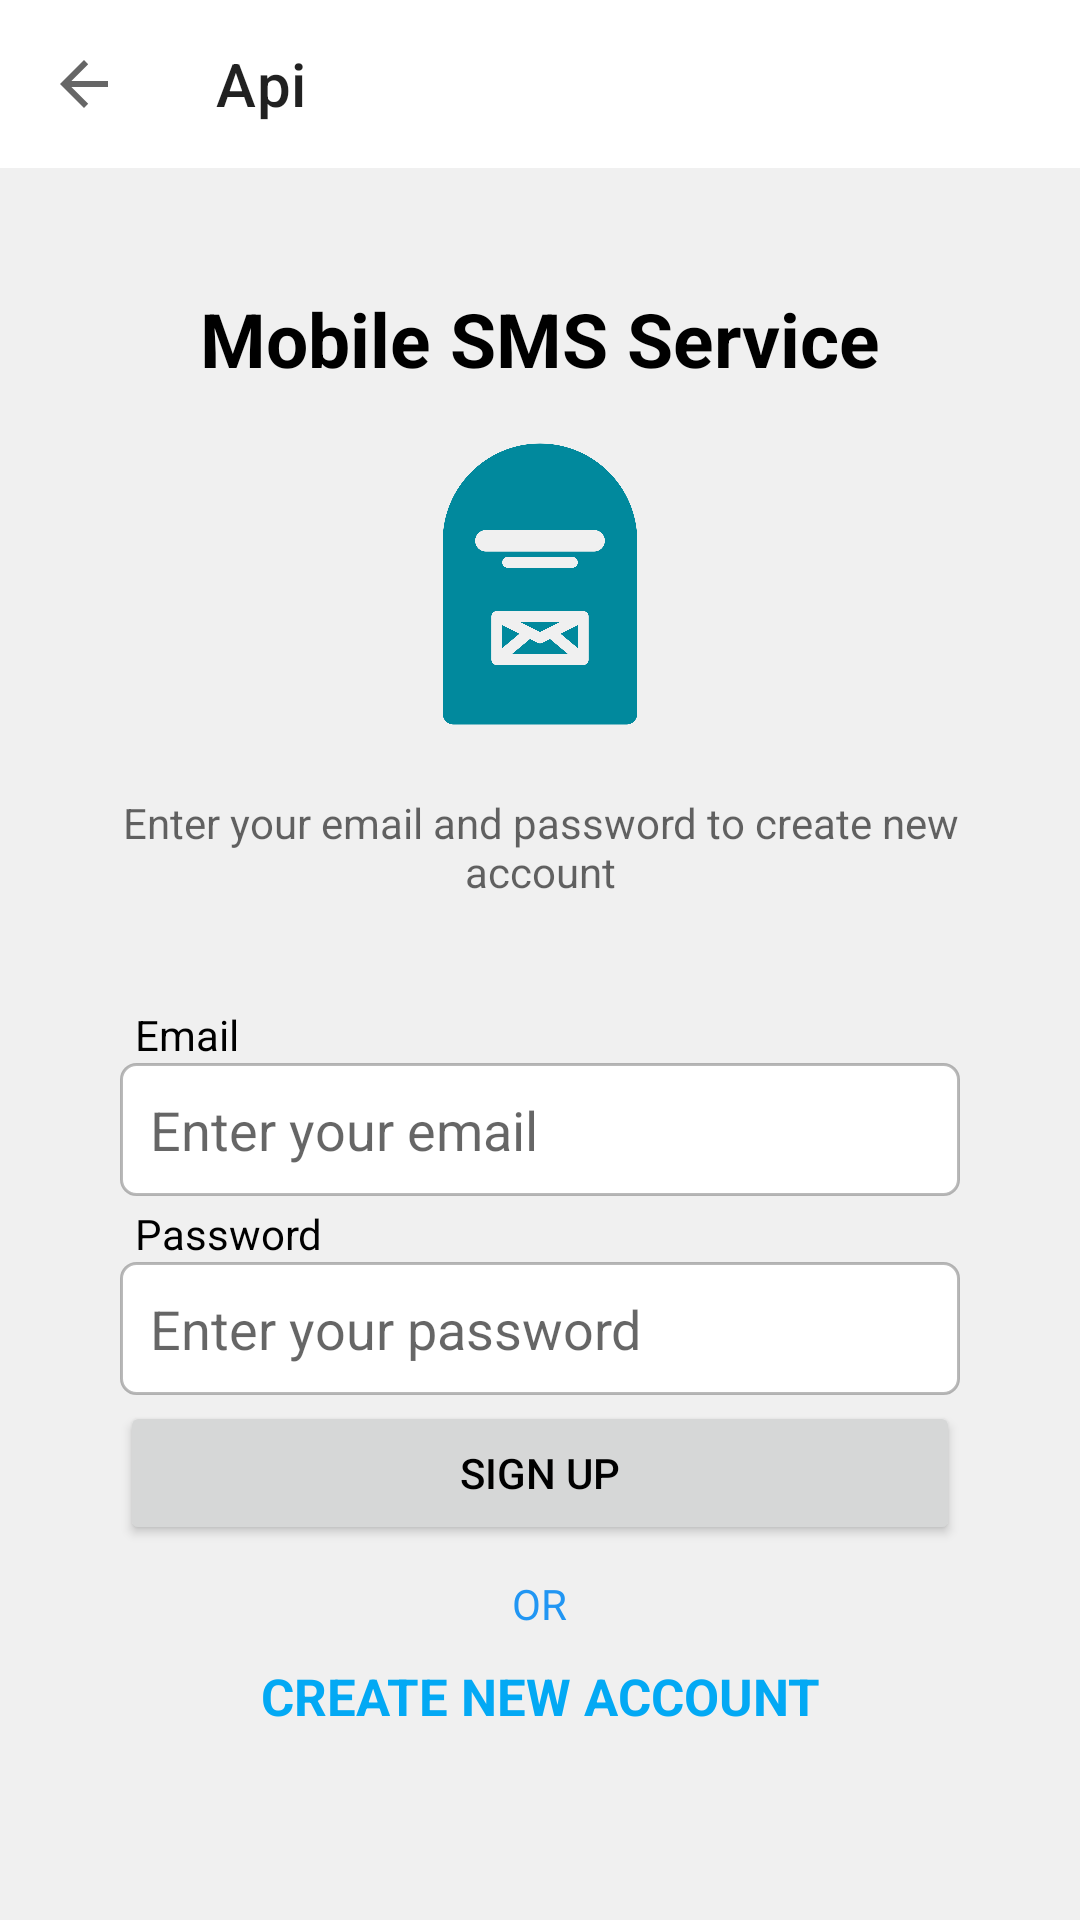

Icons on this 1080×1920 Android screen, each with the point to tap as (x,y):
app: (540,584)
